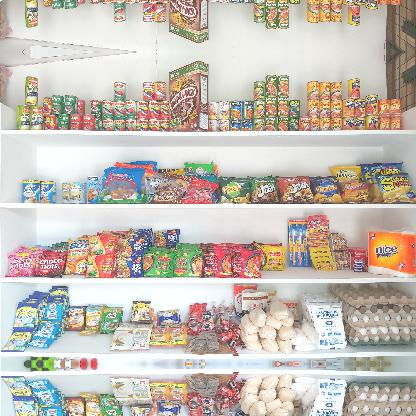Koko-Krunch: (168, 60, 208, 130), (168, 0, 209, 45)
